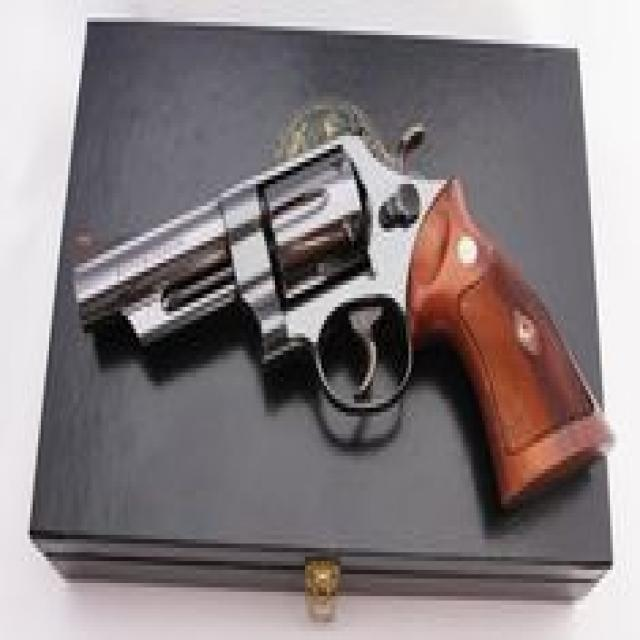revolver: (54, 85, 623, 527)
